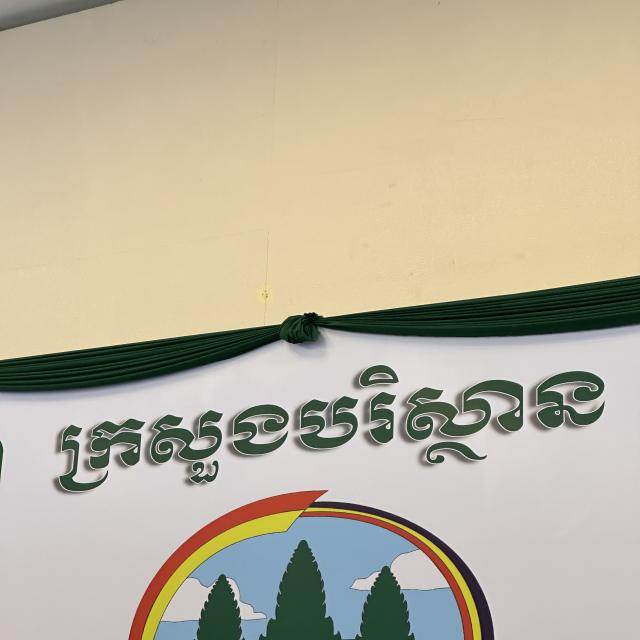Yolov11_80vkh: (36, 348, 625, 500)
